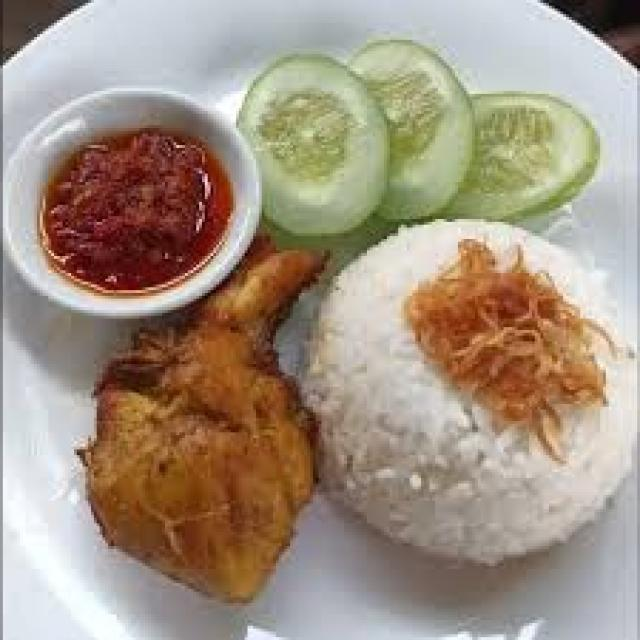ayam_goreng: (82, 233, 328, 583)
nasi_putih: (311, 229, 634, 567)
